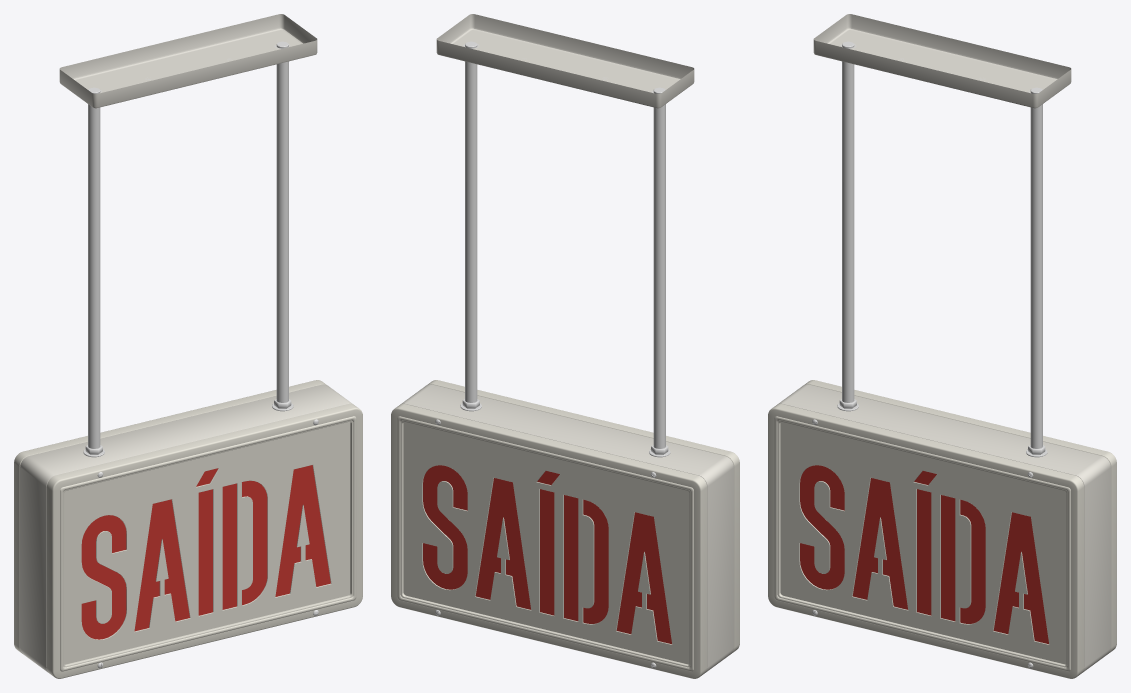
File: Kit_ExitSign_Hanging.fbx
3 renders of one model, left to right at view 1: azimuth 30°, elevation 25°; view 2: azimuth 150°, elevation 25°; view 3: azimuth 330°, elevation 25°, orthographic.
Parts seen in each view (by area): view 1: Kit_ExitSign_Hanging_LOD0; view 2: Kit_ExitSign_Hanging_LOD0; view 3: Kit_ExitSign_Hanging_LOD0.
Part boxes in pixels (box(x1,y1,x2,y2)): Kit_ExitSign_Hanging_LOD0: box(14, 14, 362, 678); Kit_ExitSign_Hanging_LOD0: box(391, 14, 739, 678); Kit_ExitSign_Hanging_LOD0: box(768, 14, 1116, 678).
Size of what is drawn, in the model's own units: 0.346 by 0.612 by 0.0789.
